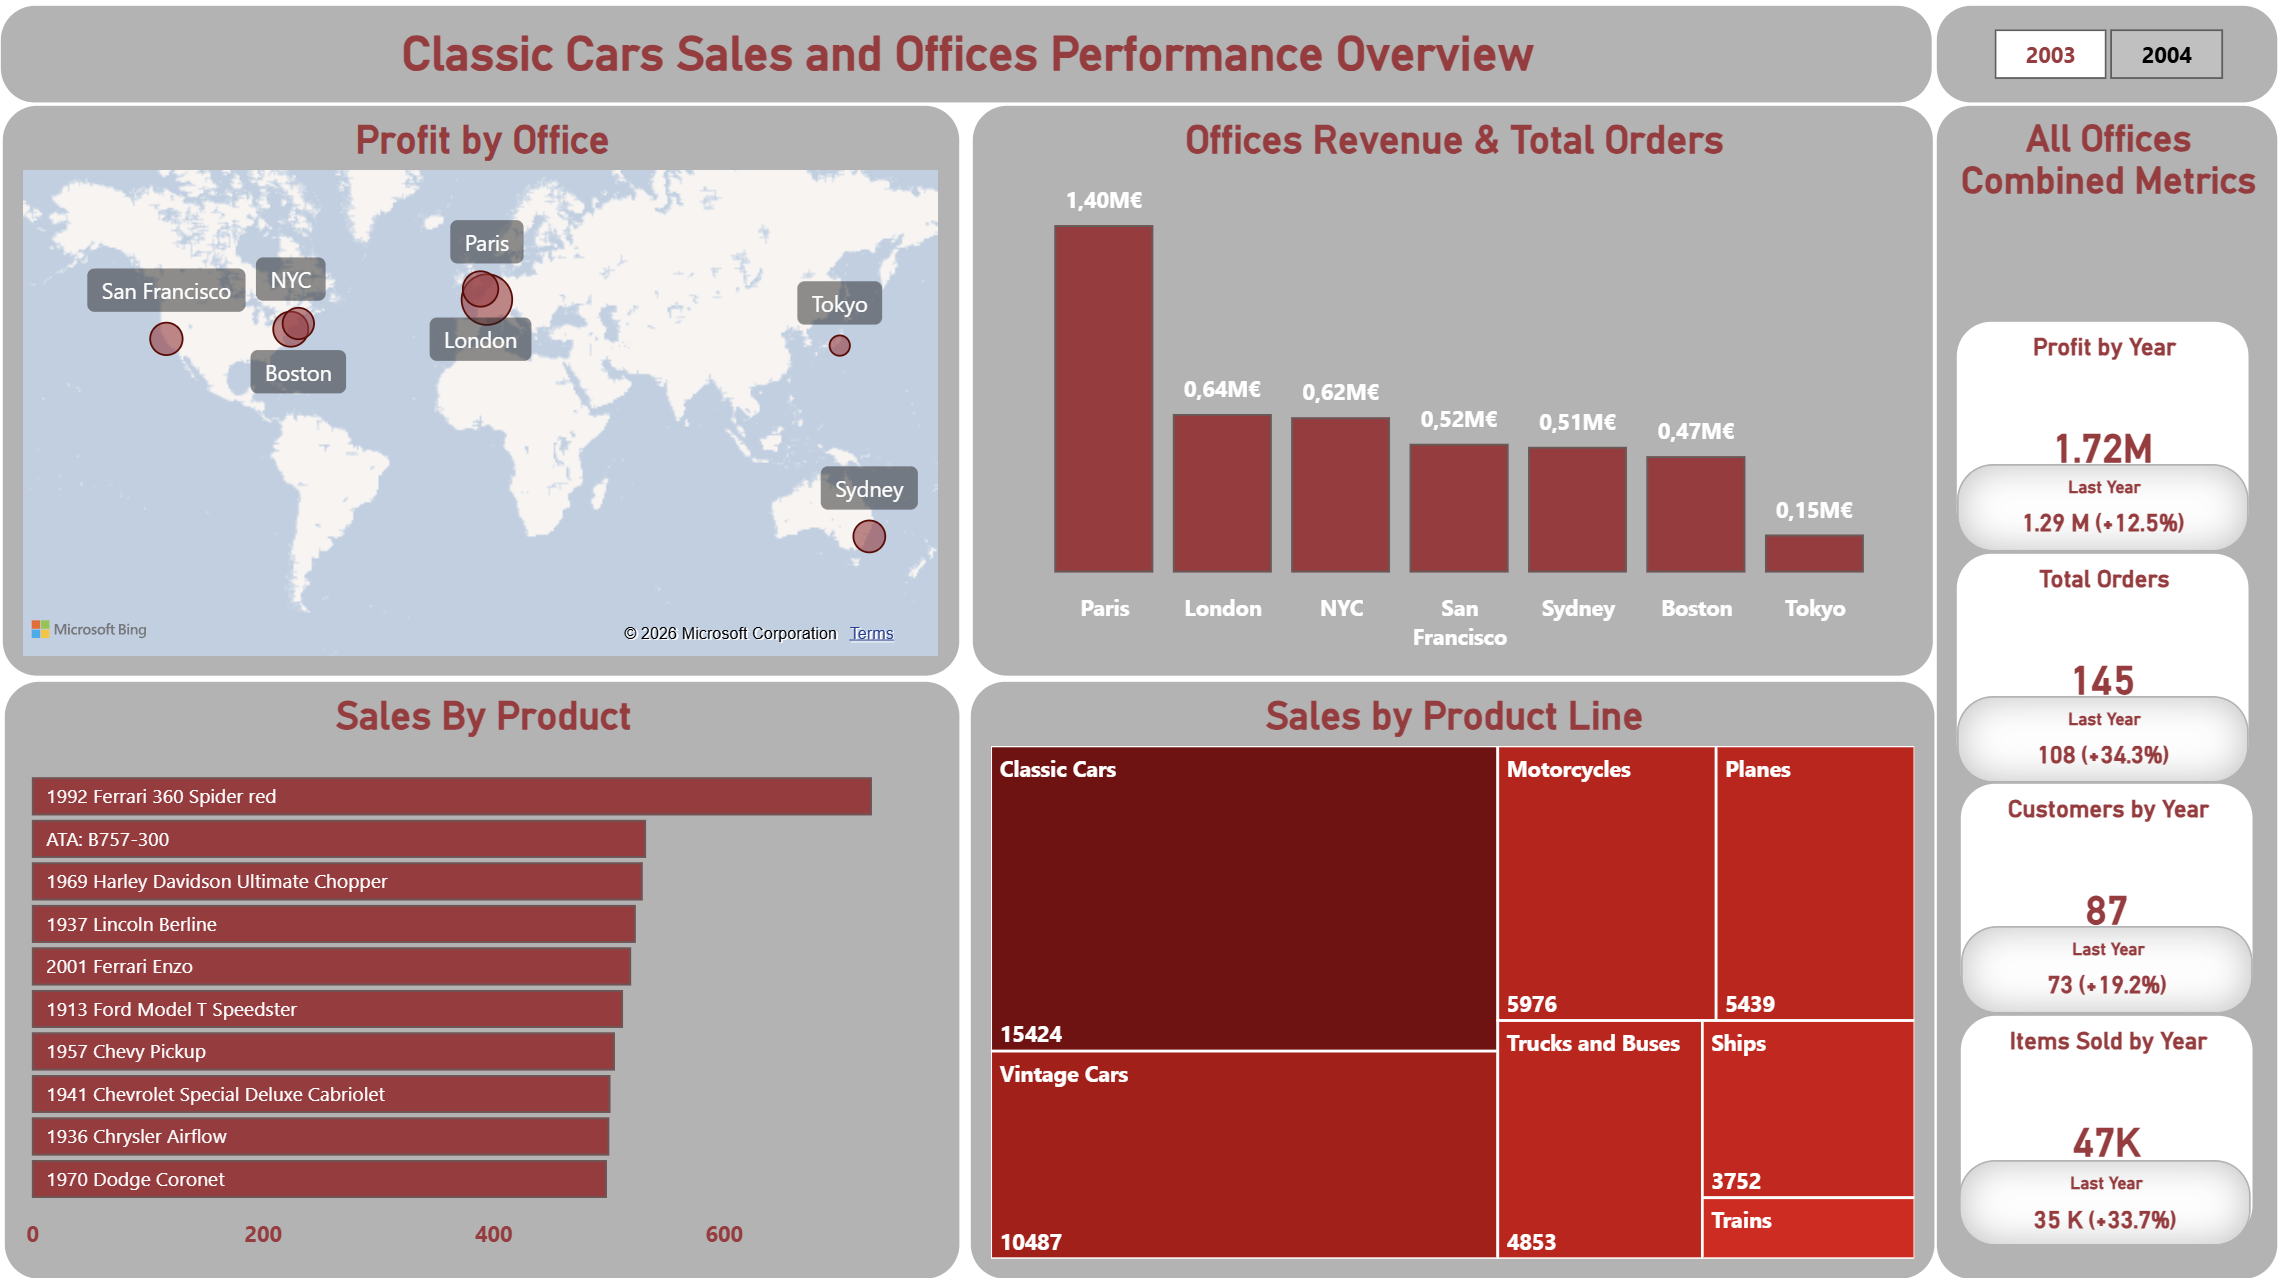

What the dashboard file says about the page in this screenshot:
{"tool":"powerbi","page":{"name":"Sales & Offices Performance Overview","canvas":[1280,720],"ordinal":1},"visuals":[{"type":"shape","box":[1078.3,68.6,190.5,651.3],"z":0},{"type":"shape","title":"Classic Cars Sales and Offices Performance Overview","box":[7.2,13.3,1071.1,55.3],"z":1000},{"type":"clusteredColumnChart","title":"Offices Revenue & Total Orders","fields":{"Y":["classicmodels orderdetails.Revenue"],"Category":["classicmodels offices.city"]},"box":[544.3,68.8,533.5,317.3],"z":2000},{"type":"slicer","fields":{"Values":["classicmodels orders.orderDate.Variation.Date Hierarchy.Year"]},"box":[1078.3,13.3,190.5,55.3],"z":3000},{"type":"card","title":"Total Orders","fields":{"Values":["classicmodels orderdetails.total orders count"]},"box":[1089.6,316.2,163.5,126],"z":4000},{"type":"card","title":"Customers by Year","fields":{"Values":["classicmodels orderdetails.Total customers count"]},"box":[1091.8,444.2,163.5,126],"z":5000},{"type":"card","title":"Items Sold by Year","fields":{"Values":["classicmodels orderdetails.Quantity Ordered Shipped Only"]},"box":[1091.8,572.2,163.5,126],"z":6000},{"type":"treemap","title":"Sales by Product Line","fields":{"Group":["classicmodels productlines.productLine"],"Values":["classicmodels orderdetails.Quantity Ordered Shipped Only"]},"box":[543.2,387.2,535.7,332.4],"z":7000},{"type":"clusteredBarChart","title":"Sales By Product","fields":{"Category":["classicmodels products.productName"],"Y":["classicmodels orderdetails.Quantity Ordered Shipped Only"]},"box":[8.6,387.2,530.3,332.4],"z":8000},{"type":"map","title":"Profit by Office","fields":{"Category":["classicmodels offices.city"],"Size":["classicmodels orderdetails.Profit"]},"box":[7.5,68.8,531.4,317.3],"z":9000},{"type":"card","title":"Profit by Year","fields":{"Values":["classicmodels orderdetails.Profit Display"]},"box":[1089.6,188.2,163.5,126],"z":9002},{"type":"card","title":"Last Year","fields":{"Values":["classicmodels orderdetails.Total Orders Last Year Display"]},"box":[1091,396,161.3,48],"z":9003},{"type":"card","title":"Last Year","fields":{"Values":["classicmodels orderdetails.Total Customers Last Year Display"]},"box":[1092.8,523.8,161.3,48.4],"z":9004},{"type":"card","title":"Last Year","fields":{"Values":["classicmodels orderdetails.Quantity Ordered Last Year Display"]},"box":[1091.8,652.9,161.3,47.3],"z":9005},{"type":"card","title":"Last Year","fields":{"Values":["classicmodels orderdetails.Profit Last Year Display 2nd Dash"]},"box":[1090.7,267.8,161.3,48.4],"z":9006}]}

Visuals, with their boxes in screenshot pixels (x1, y1, x2, y2), scaled from the page's 1280x720 canvas onto the 2282x1278 screenshot:
shape: l=1922, t=122, r=2262, b=1277
"Classic Cars Sales and Offices Performance Overview" shape: l=13, t=24, r=1922, b=122
"Offices Revenue & Total Orders" clusteredColumnChart: l=970, t=122, r=1922, b=685
slicer - classicmodels orders.orderDate.Variation.Date Hierarchy.Year: l=1922, t=24, r=2262, b=122
"Total Orders" card: l=1943, t=561, r=2234, b=785
"Customers by Year" card: l=1946, t=788, r=2238, b=1012
"Items Sold by Year" card: l=1946, t=1016, r=2238, b=1239
"Sales by Product Line" treemap: l=968, t=687, r=1923, b=1277
"Sales By Product" clusteredBarChart: l=15, t=687, r=961, b=1277
"Profit by Office" map: l=13, t=122, r=961, b=685
"Profit by Year" card: l=1943, t=334, r=2234, b=558
"Last Year" card: l=1945, t=703, r=2233, b=788
"Last Year" card: l=1948, t=930, r=2236, b=1016
"Last Year" card: l=1946, t=1159, r=2234, b=1243
"Last Year" card: l=1945, t=475, r=2232, b=561
